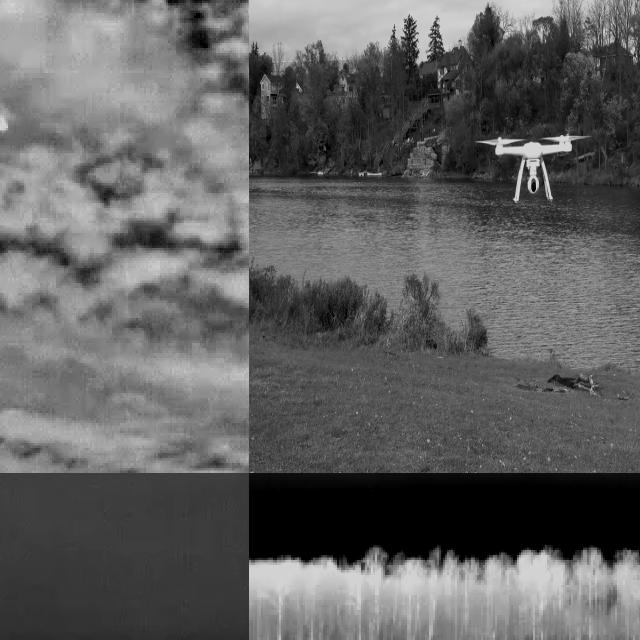0: (0, 105, 26, 142)
drone: (490, 132, 576, 204)
